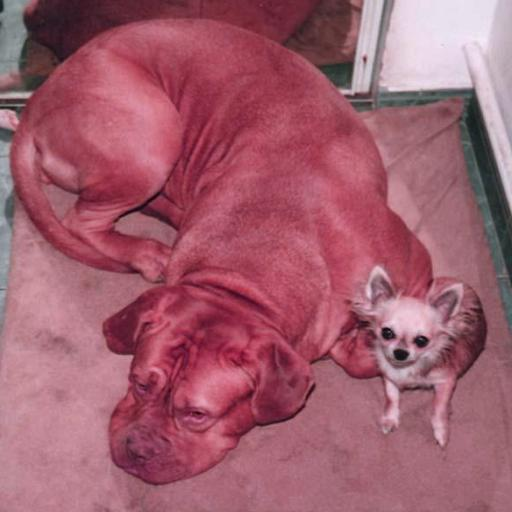dog_face: (83, 282, 318, 488), (365, 268, 466, 366)
